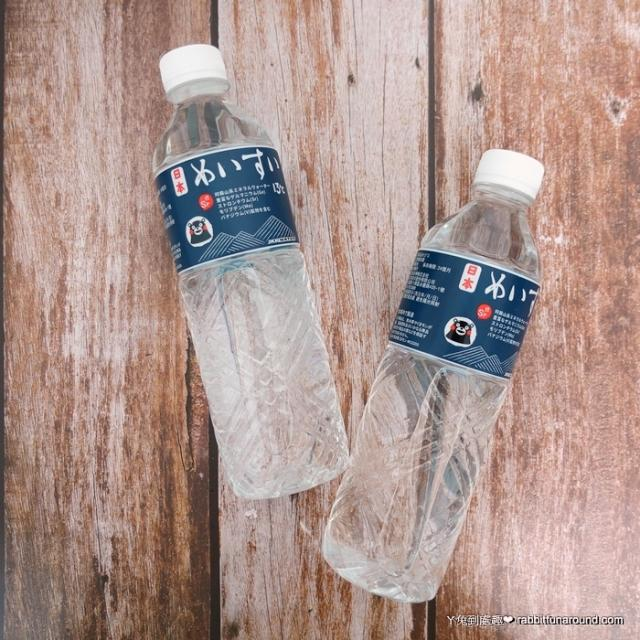plastic: (320, 145, 544, 602), (151, 42, 348, 496)
